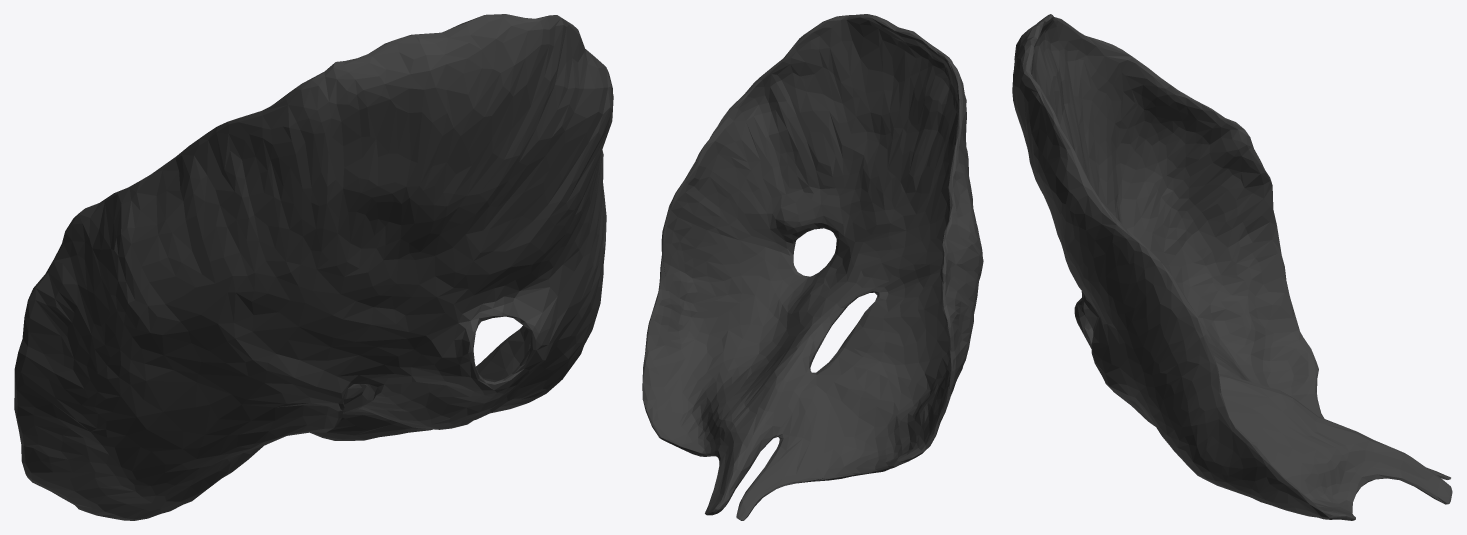
The model's file is diaphragm_LO.glb.
3 renders of one model, left to right at view 1: azimuth 30°, elevation 25°; view 2: azimuth 150°, elevation 25°; view 3: azimuth 270°, elevation 25°, orthographic. The views are drawn at different scales.
Visible parts, largest first — view 1: diaphragm_LO; view 2: diaphragm_LO; view 3: diaphragm_LO.
Part boxes in pixels (x1,y1,x2,y2): diaphragm_LO: [14, 14, 613, 520]; diaphragm_LO: [642, 14, 983, 520]; diaphragm_LO: [1012, 14, 1452, 520].
Size of the model in its own units: 0.0136 by 0.0154 by 0.0133.
Materials: 1 (1 with a texture image).
